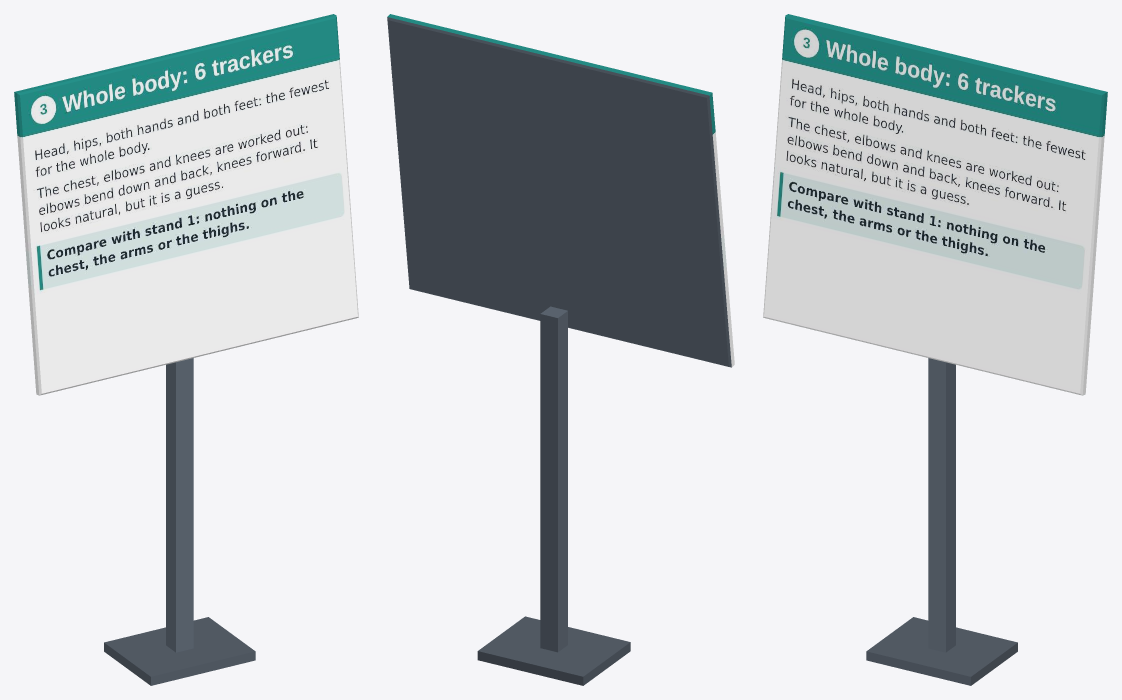
The model's file is 03-whole-body-6-trackers.glb.
The picture shows the model from 3 angles, left to right: view 1: azimuth 30°, elevation 25°; view 2: azimuth 150°, elevation 25°; view 3: azimuth 330°, elevation 25°; orthographic projection.
Parts seen in each view (by area): view 1: board; view 2: board; view 3: board.
Boxes of the visible parts, left/top/right/bottom form: board: left=14, top=14, right=358, bottom=685; board: left=387, top=14, right=734, bottom=685; board: left=763, top=14, right=1107, bottom=685.
Bounding box in the file's own units: 1.1 × 1.97 × 0.28.
Materials: 1 (1 with a texture image).
